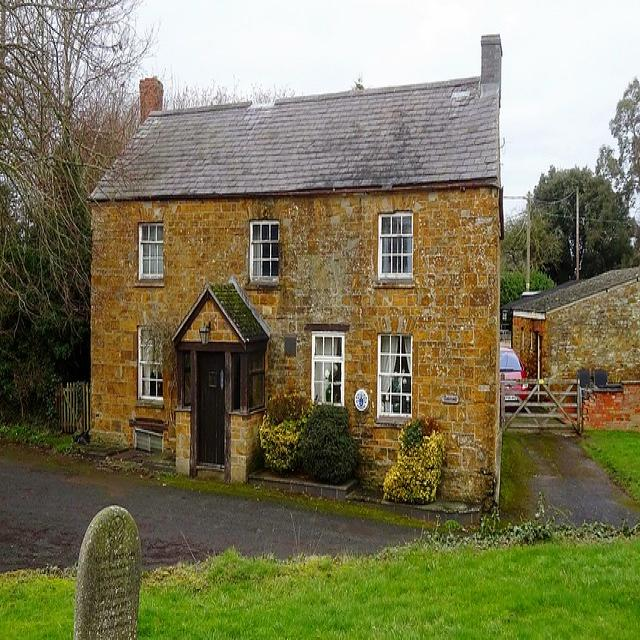building: (84, 59, 506, 517)
